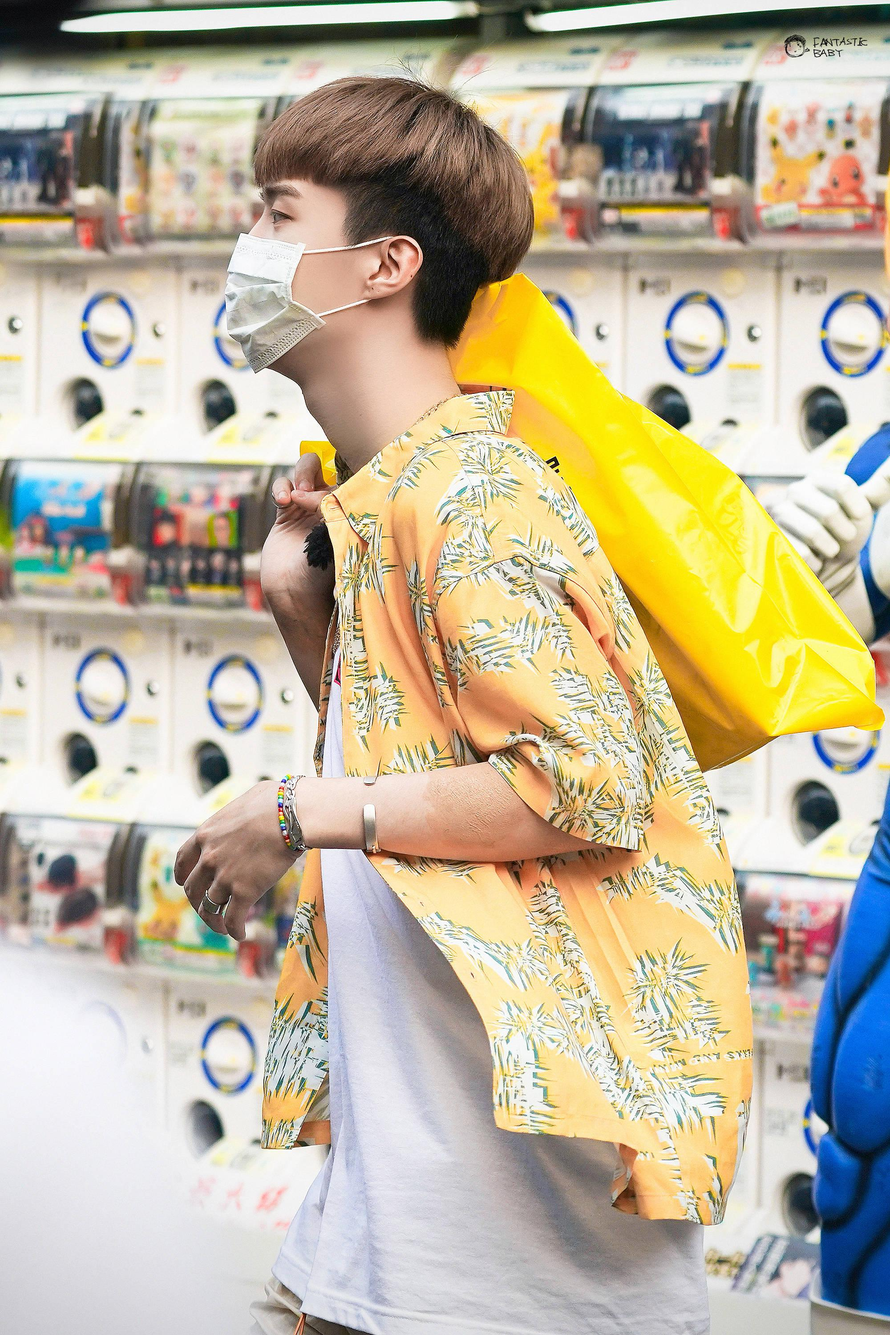OK: (225, 156, 349, 372)
